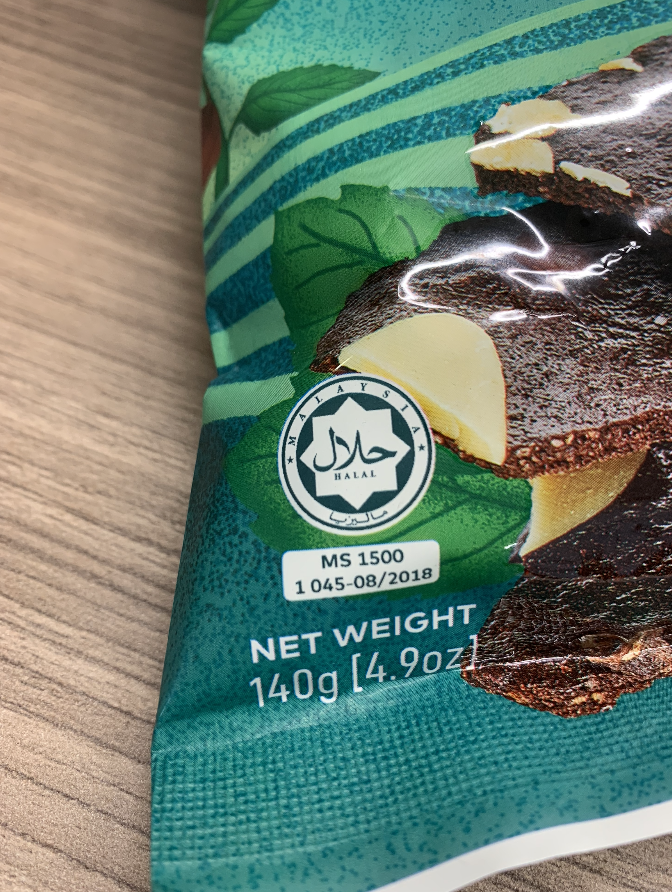halal: (309, 408, 401, 499)
